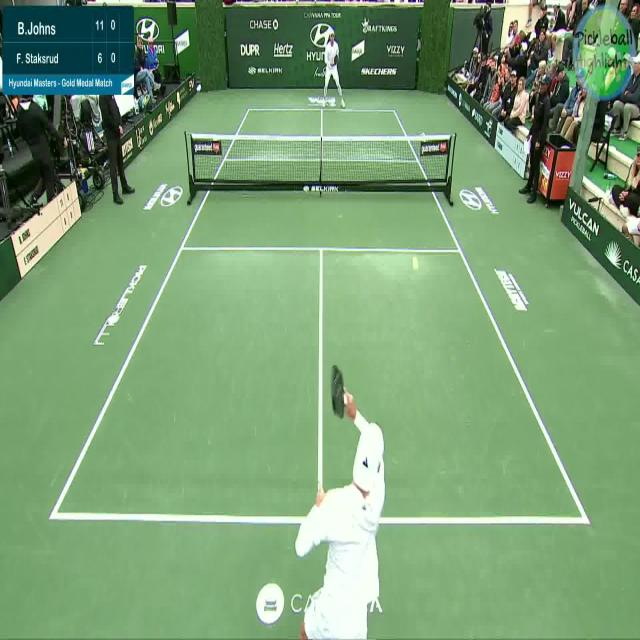ball: (413, 254, 418, 270)
